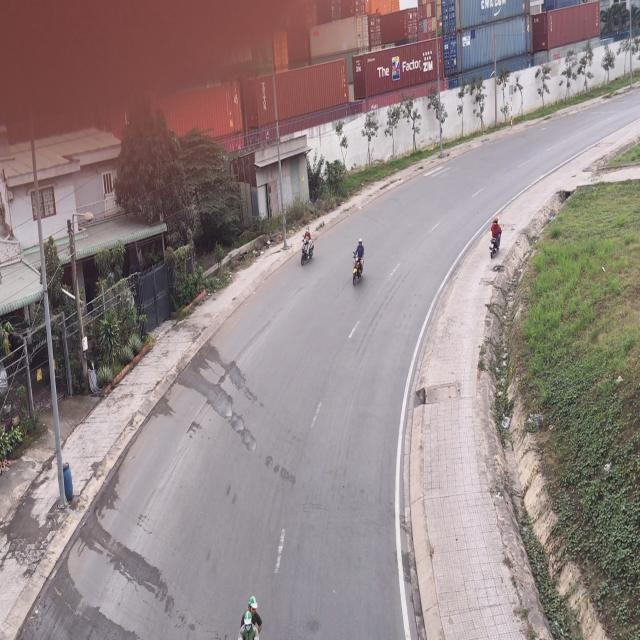motorbike: (226, 597, 265, 640), (350, 239, 366, 287), (302, 225, 317, 270), (488, 217, 502, 259)
